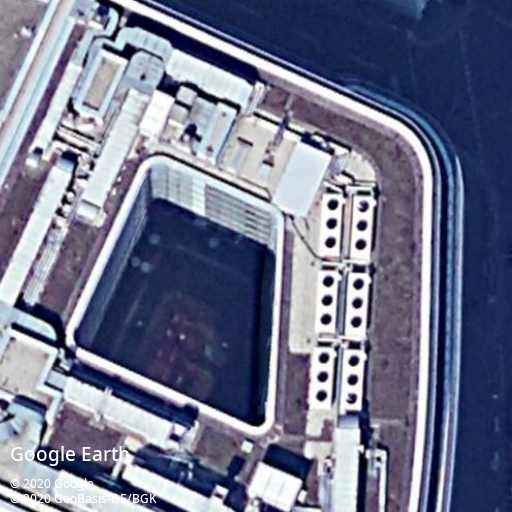Chiller: (348, 194, 376, 265), (344, 271, 370, 340), (338, 348, 365, 413), (313, 270, 340, 333), (309, 346, 335, 409), (319, 193, 344, 258)
